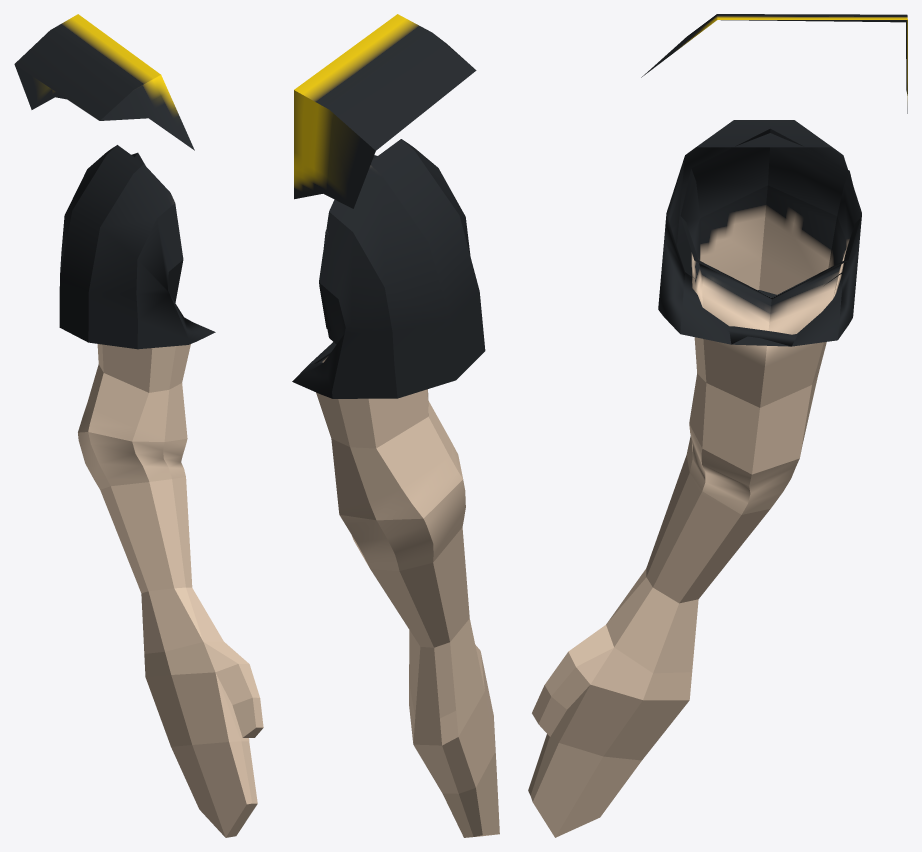
The model's file is HombreGA_BrazoDer_Flex.obj.
3 views of the same model, side by side, from view 1: azimuth 30°, elevation 25°; view 2: azimuth 150°, elevation 25°; view 3: azimuth 270°, elevation 25° (orthographic). The views are drawn at different scales.
Parts seen in each view (by area): view 1: HombreGA_BrazoDer_Flex; view 2: HombreGA_BrazoDer_Flex; view 3: HombreGA_BrazoDer_Flex.
Part boxes in pixels (x1,y1,x2,y2): HombreGA_BrazoDer_Flex: [14, 14, 263, 837]; HombreGA_BrazoDer_Flex: [292, 14, 499, 837]; HombreGA_BrazoDer_Flex: [528, 14, 907, 837].
Size of the model in its own units: 1.08 by 6.09 by 2.57.
1 material, 1 textured.
